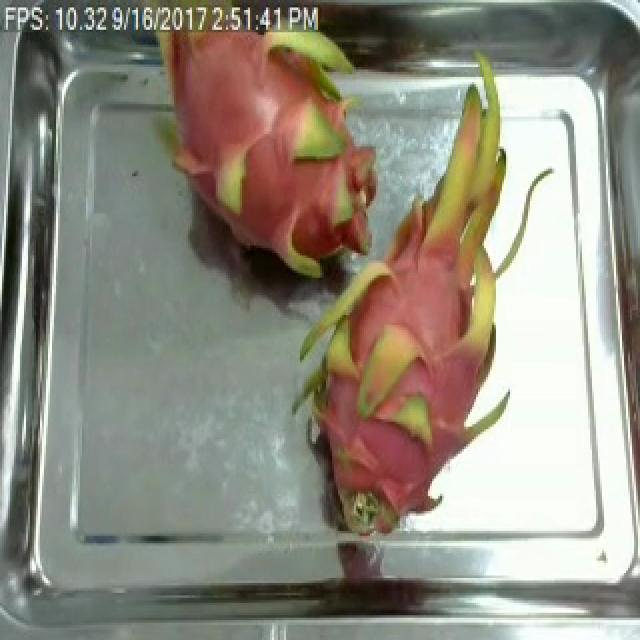Fruit: (224, 127, 412, 290)
